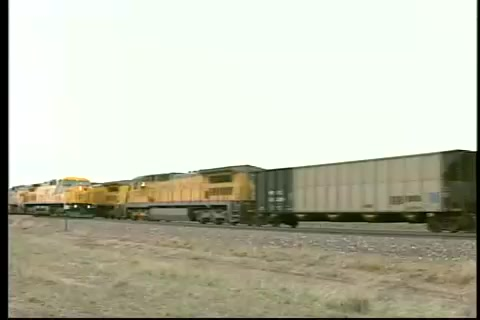train: (10, 149, 478, 237)
